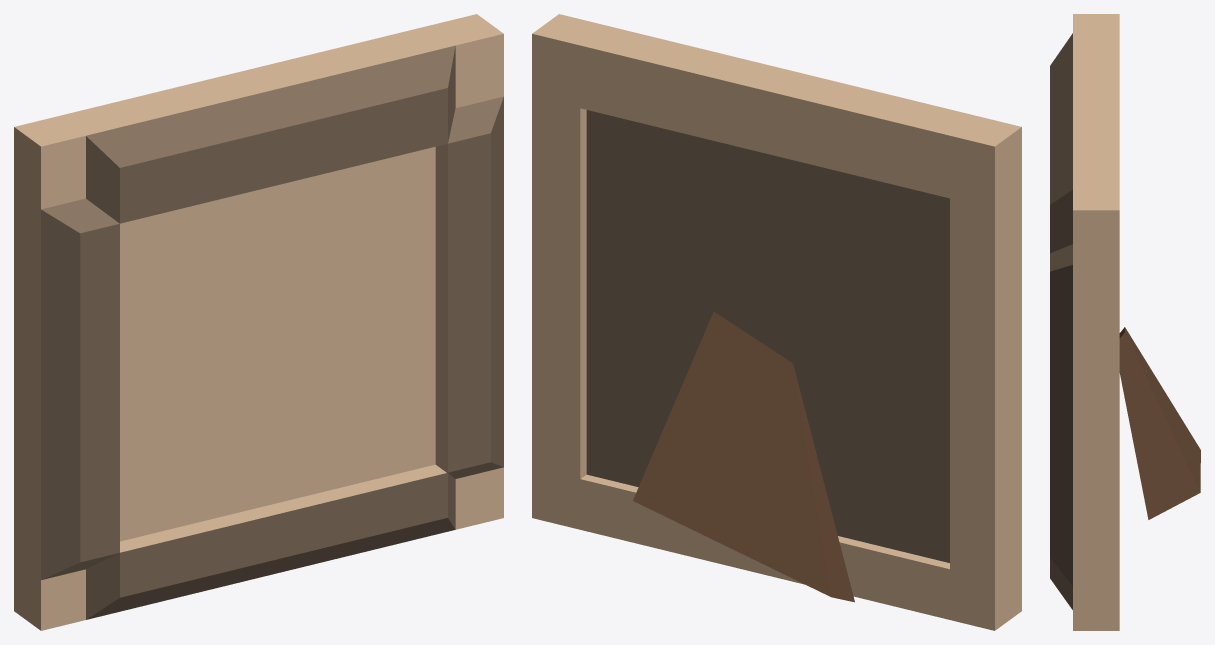
The model's file is Portrait.fbx.
The picture shows the model from 3 angles, left to right: view 1: azimuth 30°, elevation 25°; view 2: azimuth 150°, elevation 25°; view 3: azimuth 270°, elevation 25°; orthographic projection. The views are drawn at different scales.
Parts seen in each view (by area): view 1: Cube.027; view 2: Cube.027; view 3: Cube.027.
Part boxes in pixels (<box>): Cube.027: <box>14,14,503,630</box>; Cube.027: <box>532,14,1021,630</box>; Cube.027: <box>1050,14,1200,630</box>.
Size of the model in its own units: 0.3851 by 0.3851 by 0.1252.
